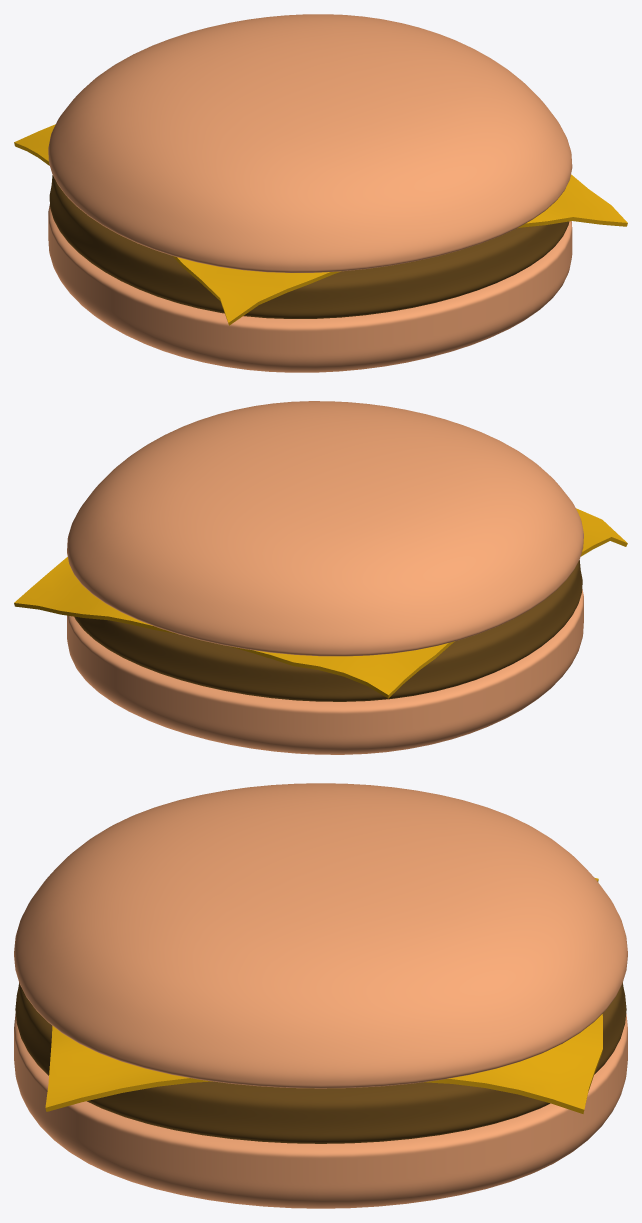
Rendered from hamburger.glb.
3 renders of one model, top to bottom at view 1: azimuth 30°, elevation 25°; view 2: azimuth 150°, elevation 25°; view 3: azimuth 270°, elevation 25°, orthographic. The views are drawn at different scales.
Visible parts, largest first — view 1: TopBun, BottomBun, Meat, Cheese; view 2: TopBun, BottomBun, Meat, Cheese; view 3: TopBun, BottomBun, Meat, Cheese.
Boxes of the visible parts, x1,y1,x2,y2 form: TopBun: [48, 14, 572, 272]; BottomBun: [48, 204, 572, 372]; Meat: [49, 175, 569, 318]; Cheese: [14, 124, 627, 325]; TopBun: [67, 401, 583, 656]; BottomBun: [67, 589, 583, 754]; Meat: [74, 560, 582, 701]; Cheese: [14, 508, 627, 698]; TopBun: [14, 783, 627, 1088]; BottomBun: [14, 1014, 627, 1208]; Meat: [15, 982, 626, 1143]; Cheese: [45, 878, 602, 1113].
Bounding box in the file's own units: 9.17 × 4.36 × 9.17.
